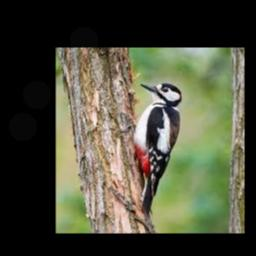Woodpecker: (133, 83, 181, 215)
